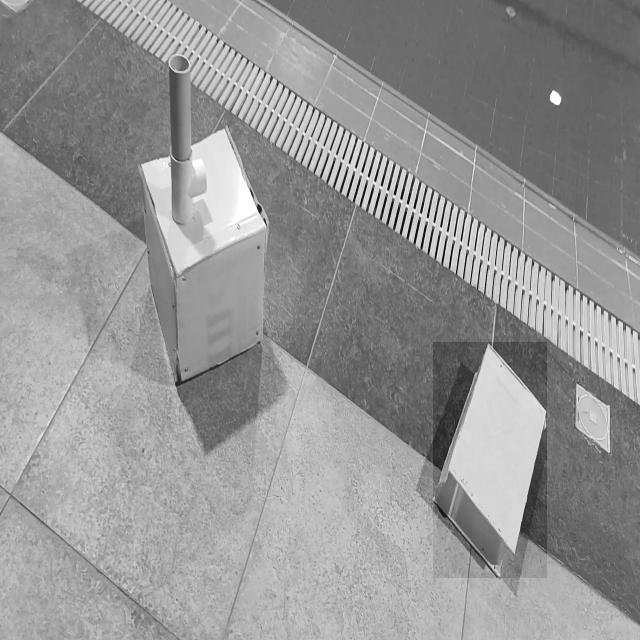Cube: (137, 126, 268, 382)
Cuboid: (433, 342, 547, 578)
